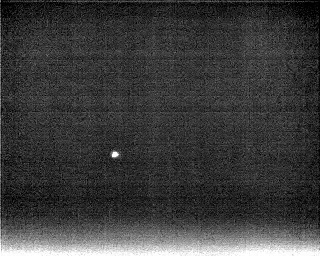BIRD: (108, 148, 122, 162)
